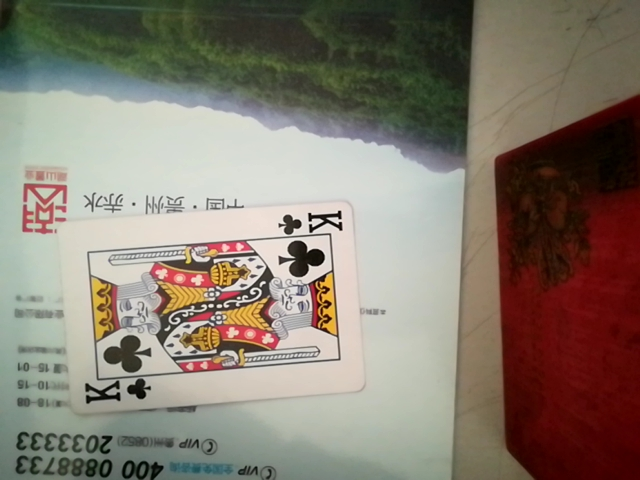mh k: (58, 197, 365, 419)
